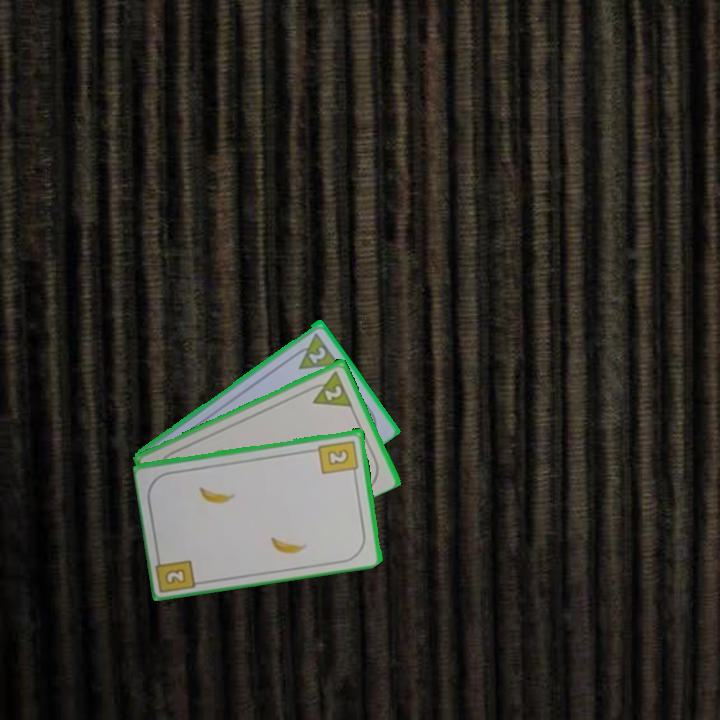2b: (316, 436, 361, 478), (161, 565, 189, 587)
2p: (288, 328, 341, 372), (321, 381, 345, 403)
